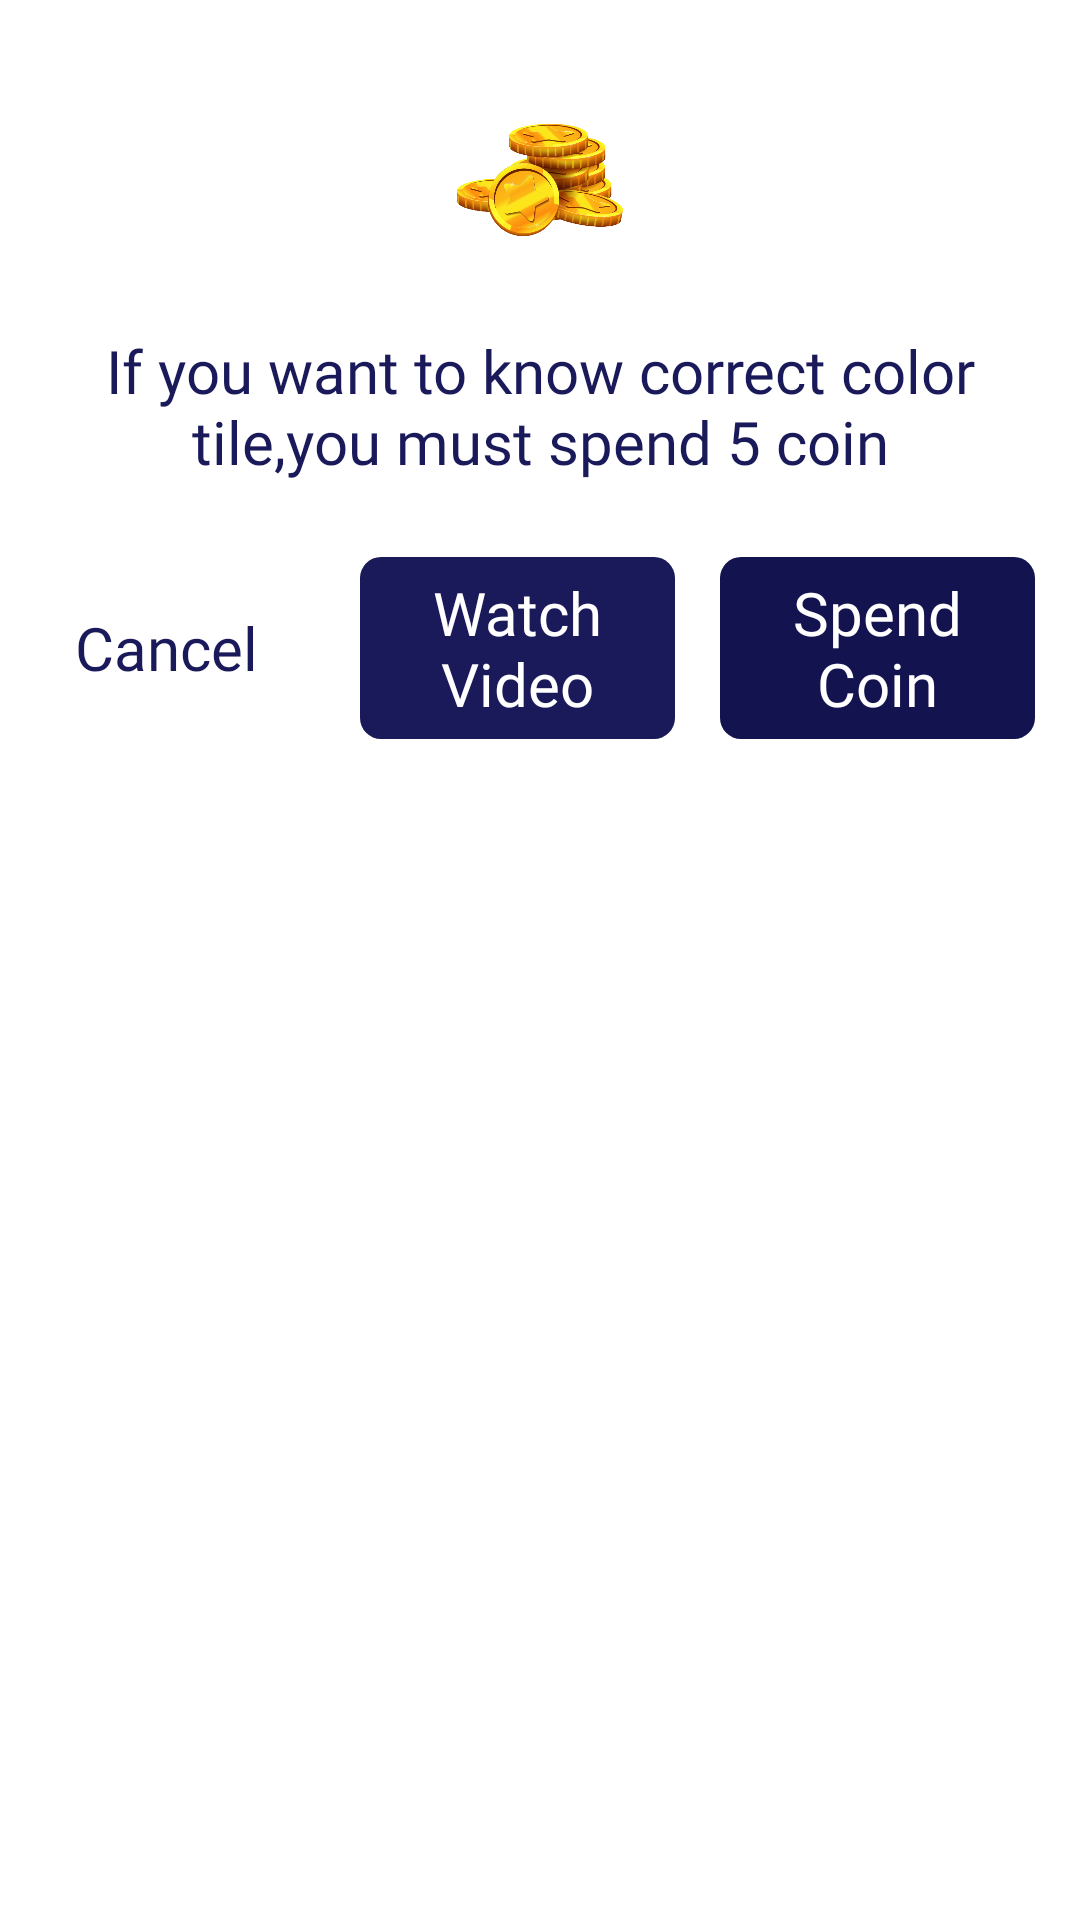

Where to tap for icons on this 1080 x 1920 app screen, as point (x, y):
coins: point (540, 180)
